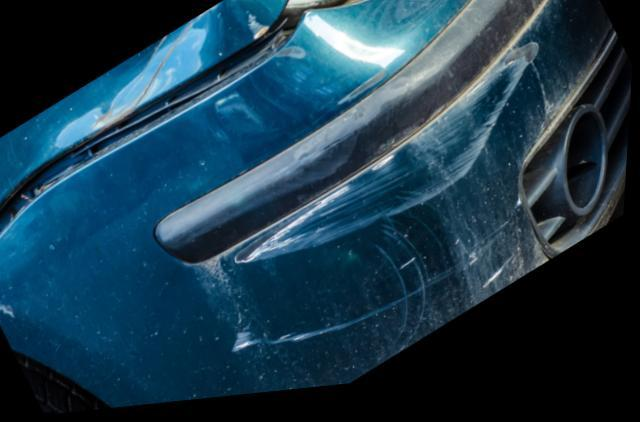dent: (22, 7, 220, 155)
dislocated part: (0, 1, 312, 250)
scratch: (229, 50, 541, 277), (231, 258, 488, 359)
